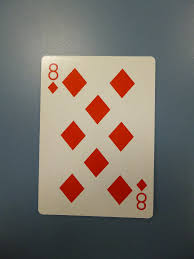eight of diamonds: (37, 55, 154, 219)
